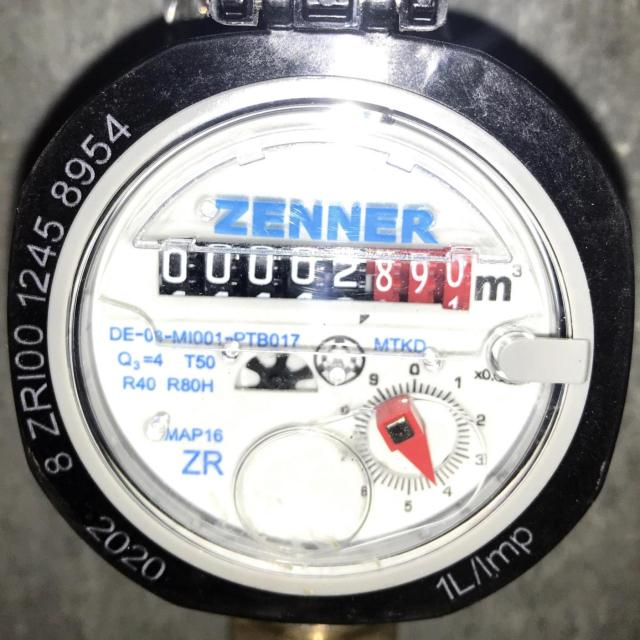gaz_meter: (69, 100, 568, 558)
indication: (153, 238, 471, 311)
